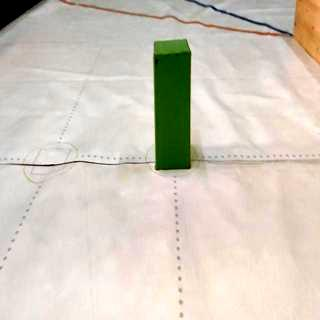greenbox: (152, 40, 192, 170)
